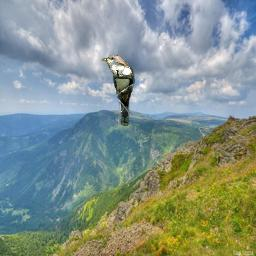Cuckoo: (101, 55, 135, 126)
